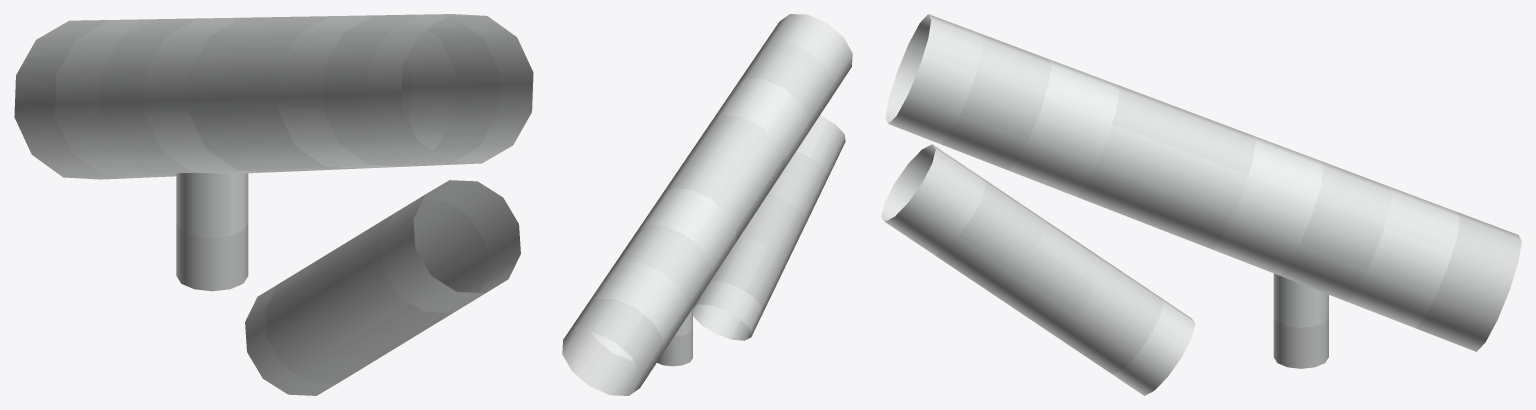
Rendered from luminairearm_truss10ftstraightdouble_c12.obj.
3 views of the same model, side by side, from view 1: azimuth 30°, elevation 25°; view 2: azimuth 150°, elevation 25°; view 3: azimuth 270°, elevation 25° (orthographic). The views are drawn at different scales.
Parts seen in each view (by area): view 1: luminairearm_truss10ftstraightdouble_c12; view 2: luminairearm_truss10ftstraightdouble_c12; view 3: luminairearm_truss10ftstraightdouble_c12.
Boxes of the visible parts, x1,y1,x2,y2 form: luminairearm_truss10ftstraightdouble_c12: [14, 14, 533, 395]; luminairearm_truss10ftstraightdouble_c12: [562, 14, 852, 395]; luminairearm_truss10ftstraightdouble_c12: [881, 14, 1521, 395].
Size of the model in its own units: 0.2125 by 0.6946 by 1.09.
